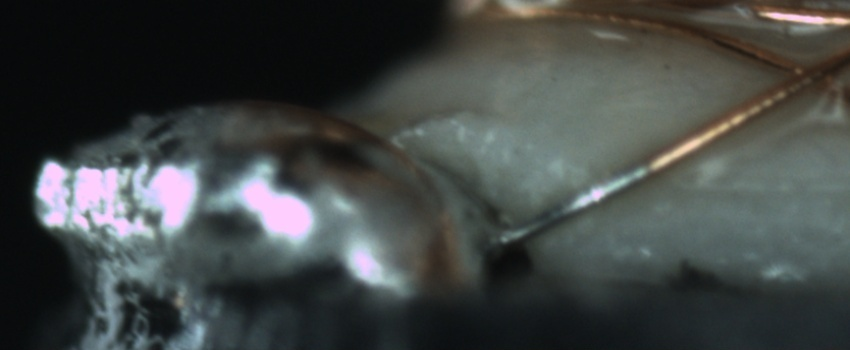CL: (765, 47, 844, 103)
DL: (643, 154, 849, 218)
TS: (502, 163, 654, 246)
